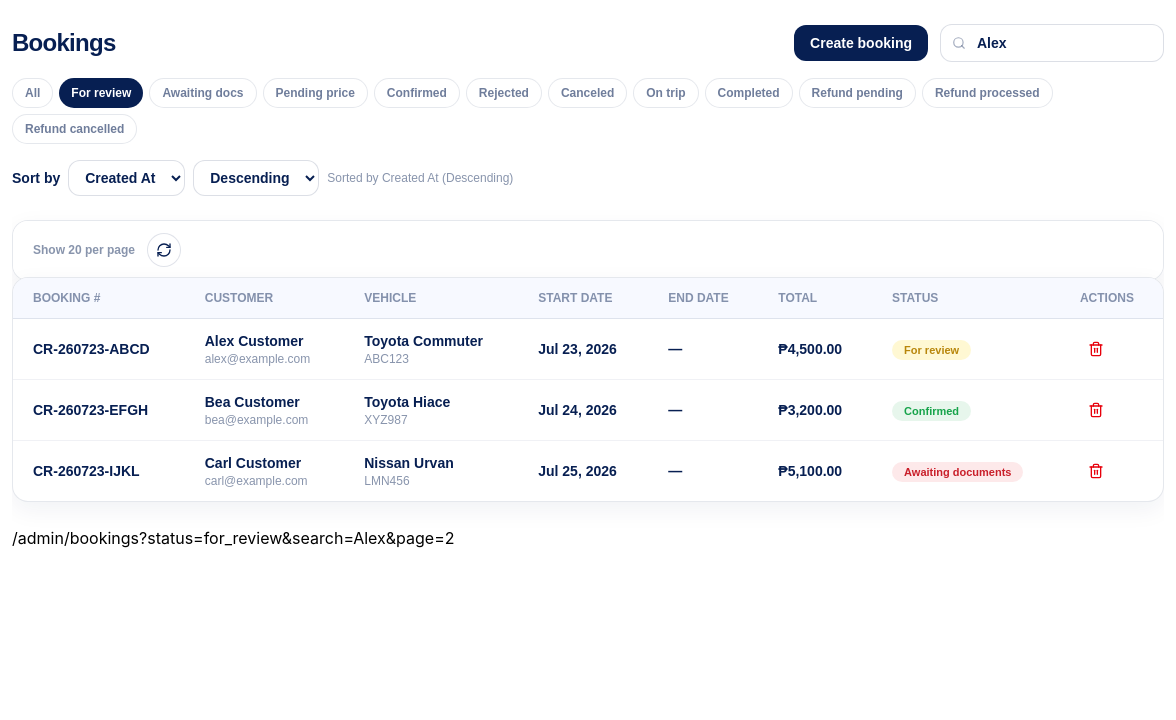
Test: AdminBookings › navigates to booking details when a row is clicked
Click the text "Alex Customer" at (254, 341), box [205,333,304,349]
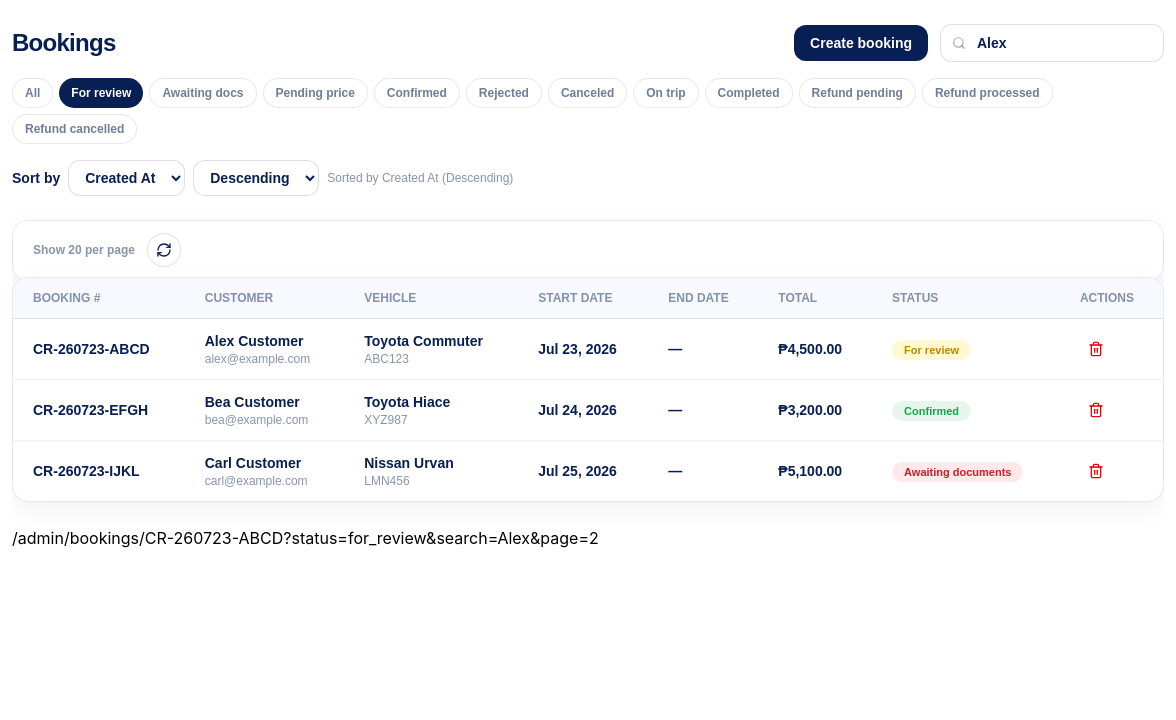
Check: the text with test id "location" reads "/admin/bookings/CR-260723-ABCD?status=for_review&search=Alex&page=2", box [12,528,599,548]
